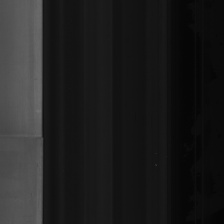welding_line: (3, 127, 50, 146)
